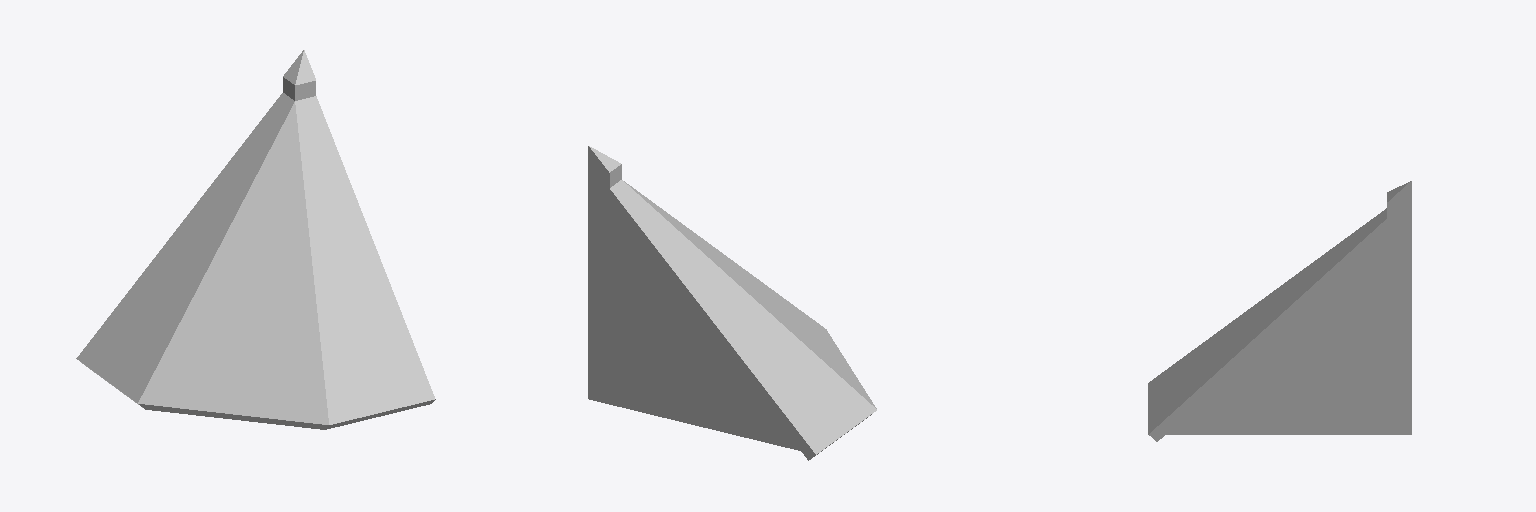
Rendered from roof-high-corner-round.obj.
The picture shows the model from 3 angles: view 1: azimuth 30°, elevation 25°; view 2: azimuth 150°, elevation 25°; view 3: azimuth 270°, elevation 25°; orthographic projection.
Parts seen in each view (by area): view 1: roof-high-corner-round; view 2: roof-high-corner-round; view 3: roof-high-corner-round.
Boxes of the visible parts, x1,y1,x2,y2 form: roof-high-corner-round: [76, 50, 435, 429]; roof-high-corner-round: [588, 146, 876, 460]; roof-high-corner-round: [1148, 181, 1411, 441].
Size of the model in its own units: 1.07 by 1.18 by 1.07.